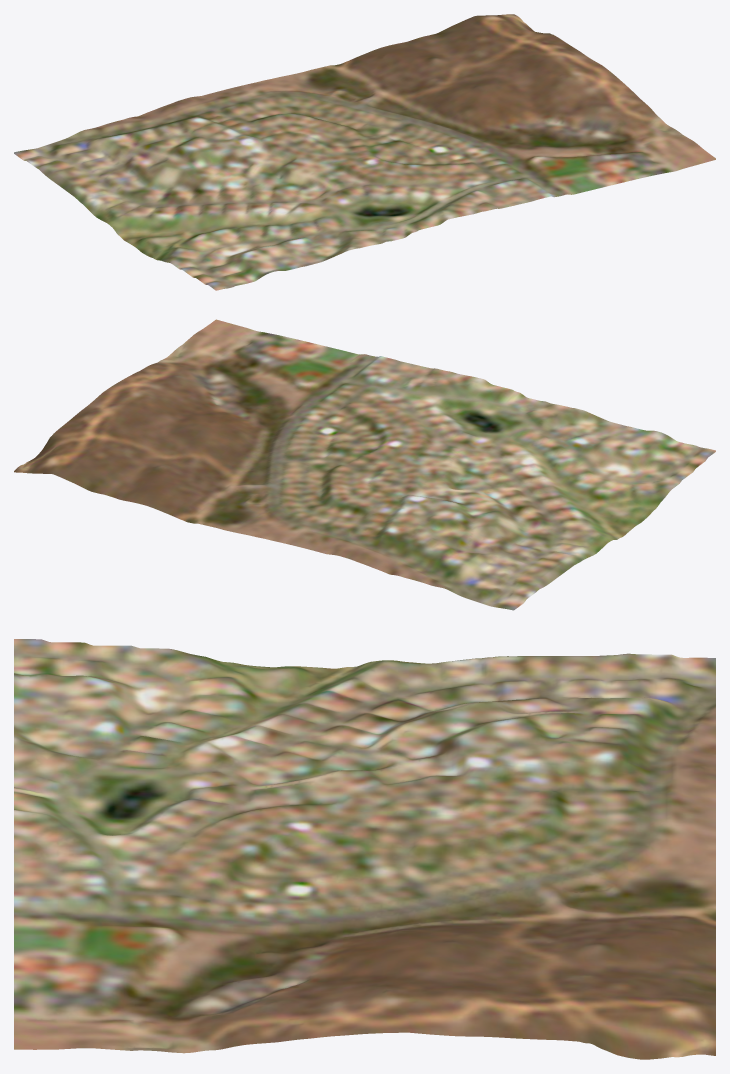
The model's file is terrain_r2_c2.glb.
3 views of the same model, one above another, from view 1: azimuth 30°, elevation 25°; view 2: azimuth 150°, elevation 25°; view 3: azimuth 270°, elevation 25° (orthographic). The views are drawn at different scales.
Parts seen in each view (by area): view 1: terrain_r2_c2_lod0; view 2: terrain_r2_c2_lod0; view 3: terrain_r2_c2_lod0.
Part boxes in pixels (bbox=[...]): terrain_r2_c2_lod0: bbox=[14, 14, 715, 290]; terrain_r2_c2_lod0: bbox=[14, 319, 715, 610]; terrain_r2_c2_lod0: bbox=[14, 639, 715, 1059].
Size of the model in its own units: 1125 by 87.55 by 787.
Materials: 1 (1 with a texture image).
